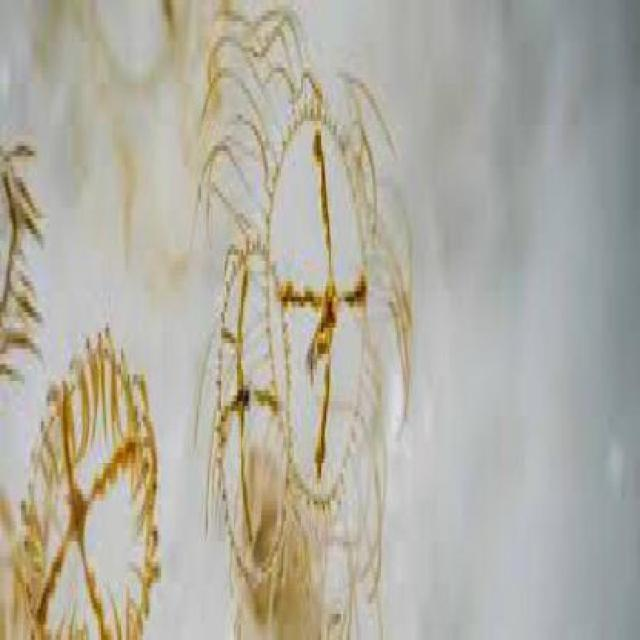Jellyfish: (13, 322, 158, 635), (188, 224, 290, 598)
